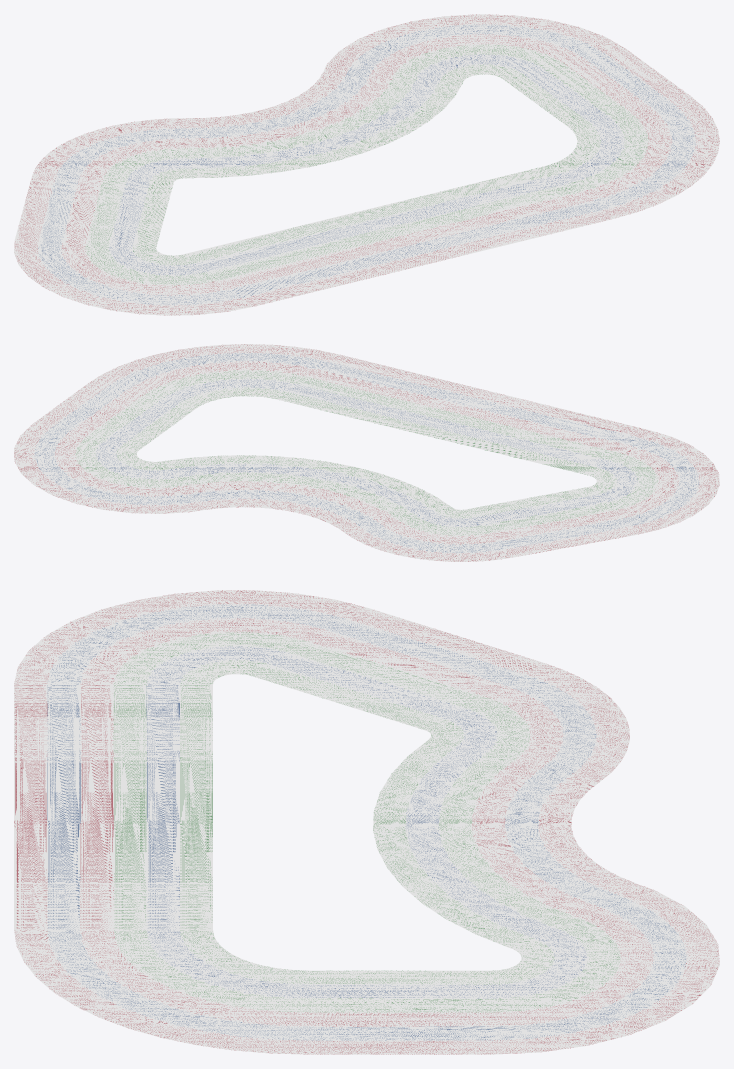
Rendered from track.dae.
3 views of the same model, one above another, from view 1: azimuth 30°, elevation 25°; view 2: azimuth 150°, elevation 25°; view 3: azimuth 270°, elevation 25° (orthographic). The views are drawn at different scales.
Visible parts, largest first — view 1: SketchUp.010, SketchUp.009, SketchUp.007, SketchUp.008, SketchUp.006, SketchUp.011; view 2: SketchUp.010, SketchUp.009, SketchUp.007, SketchUp.008, SketchUp.006, SketchUp.011; view 3: SketchUp.010, SketchUp.009, SketchUp.007, SketchUp.008, SketchUp.006, SketchUp.011.
Boxes of the visible parts, bbox=[...] form: SketchUp.010: bbox=[14, 14, 719, 315]; SketchUp.009: bbox=[38, 24, 695, 305]; SketchUp.007: bbox=[61, 34, 672, 295]; SketchUp.008: bbox=[85, 44, 648, 285]; SketchUp.006: bbox=[109, 54, 624, 275]; SketchUp.011: bbox=[132, 64, 600, 265]; SketchUp.010: bbox=[14, 344, 719, 561]; SketchUp.009: bbox=[34, 352, 699, 553]; SketchUp.007: bbox=[55, 361, 678, 544]; SketchUp.008: bbox=[75, 370, 658, 535]; SketchUp.006: bbox=[96, 378, 637, 527]; SketchUp.011: bbox=[116, 387, 617, 518]; SketchUp.010: bbox=[14, 590, 719, 1054]; SketchUp.009: bbox=[47, 604, 686, 1040]; SketchUp.007: bbox=[80, 618, 653, 1026]; SketchUp.008: bbox=[113, 632, 620, 1012]; SketchUp.006: bbox=[146, 646, 587, 998]; SketchUp.011: bbox=[180, 660, 554, 984].
Bounding box in the file's own units: 10.21 × 6.56 × 0.
